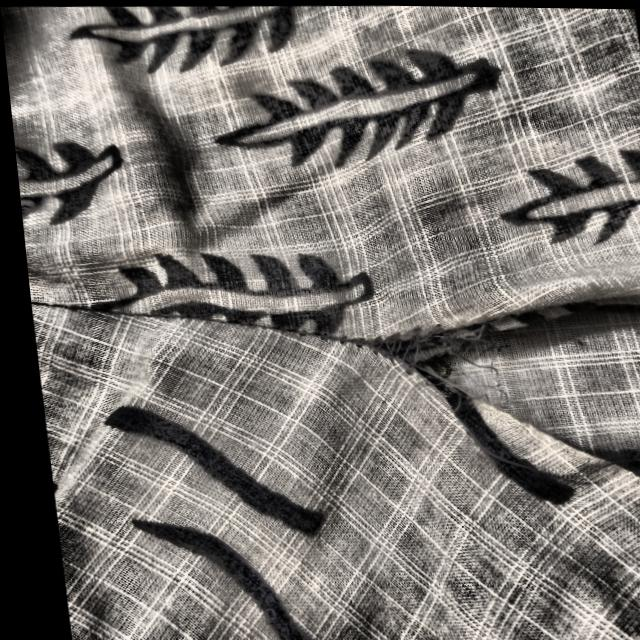Stitch: (356, 290, 640, 495)
